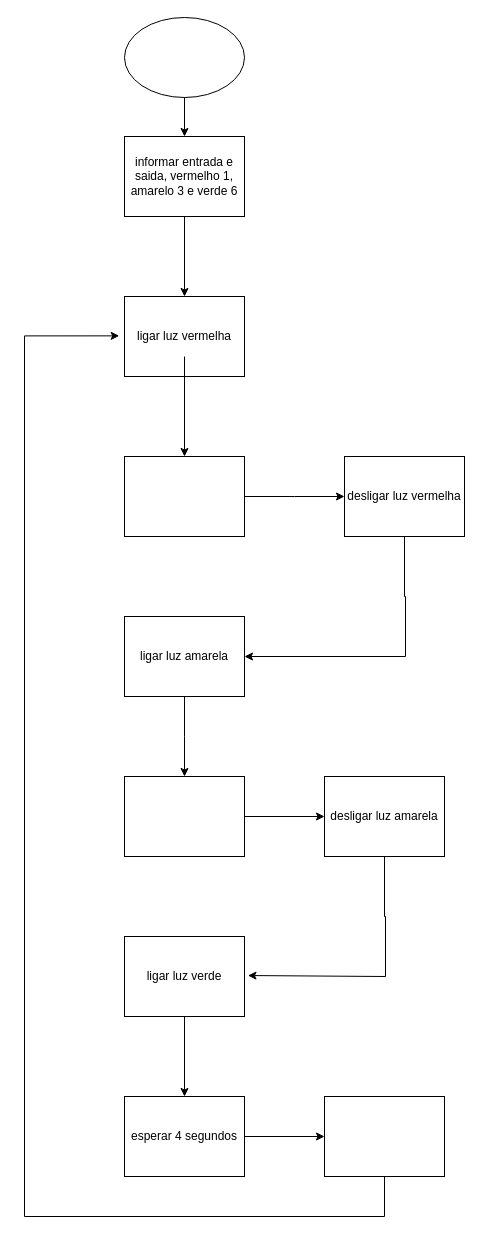
Image size: 482x1242. Some labels were removed from this diagram. Here are the shapes that lost their labels. From the top down, the box of each, then its label:
(124, 16, 244, 98): inicio
(124, 456, 244, 536): esperar 5 segundos
(124, 776, 244, 856): espera 1 segundo
(324, 1096, 444, 1176): desligar luz verde
